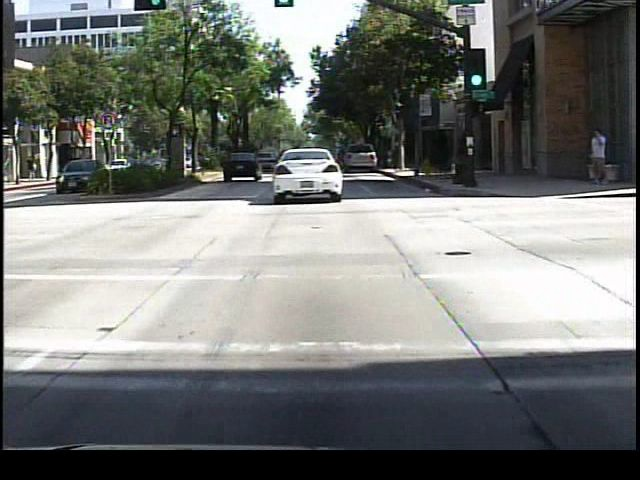person: (586, 125, 610, 189), (25, 150, 42, 184)
